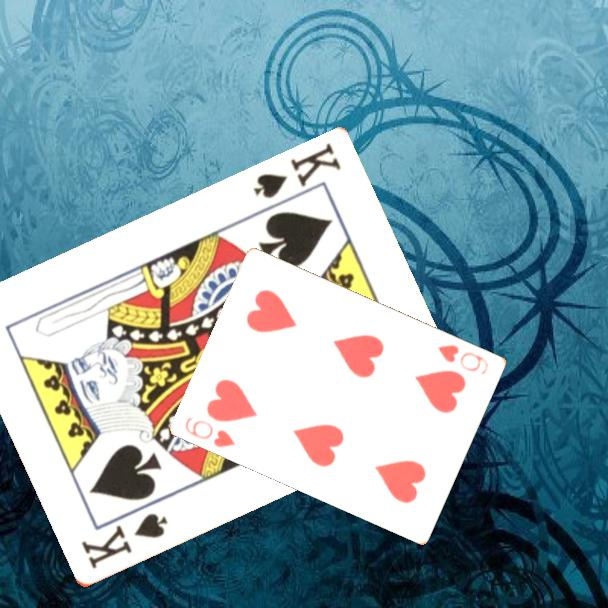h06: (434, 341, 492, 377), (182, 414, 239, 450)
s13: (249, 140, 344, 202), (77, 510, 171, 572)
